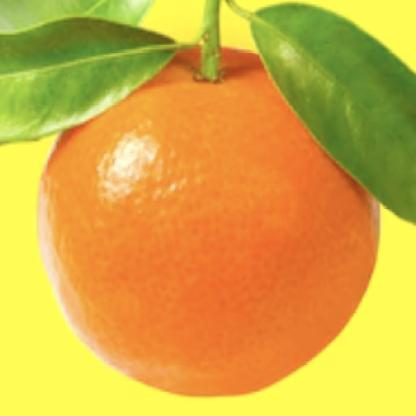fresh: (41, 28, 382, 397)
